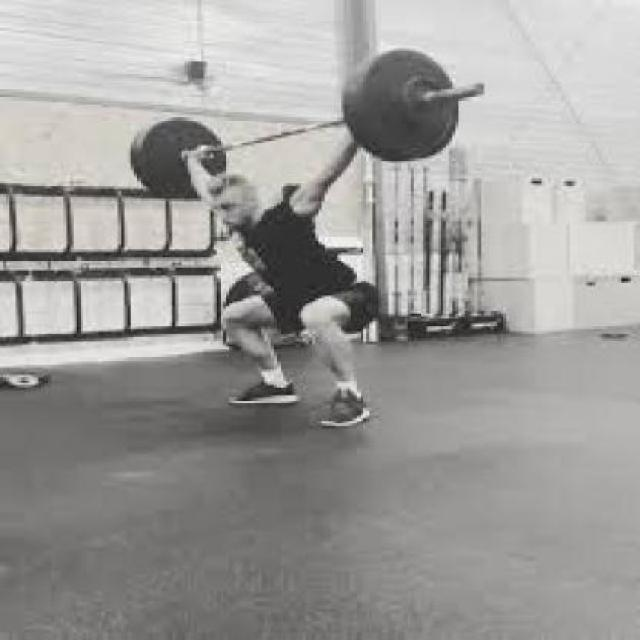barbell: (357, 45, 492, 164)
